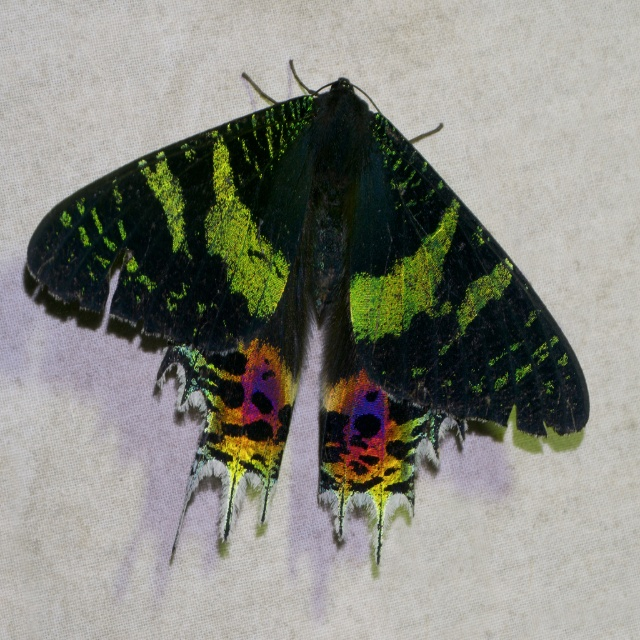Butterfly: (22, 55, 593, 563)
